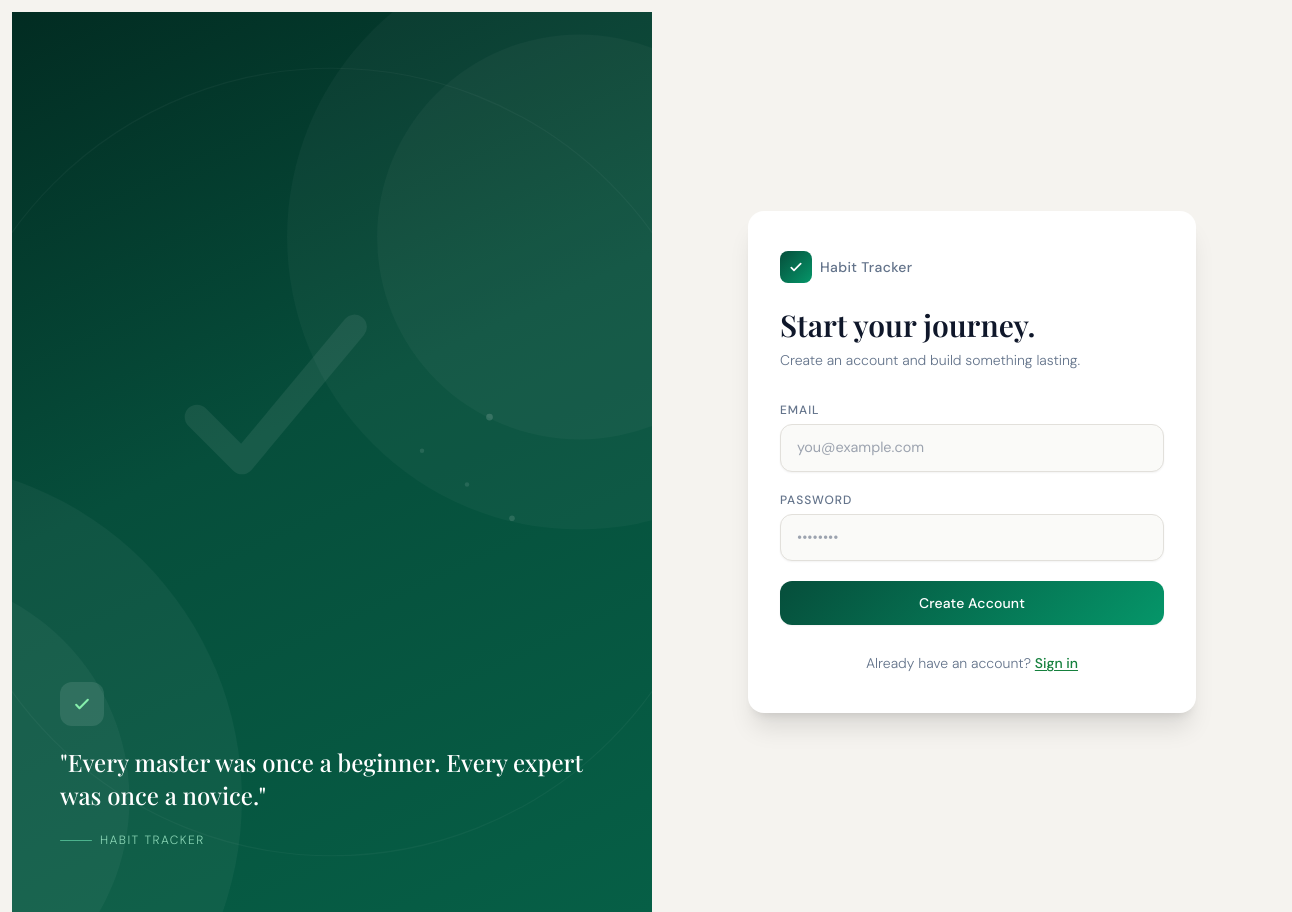
auth flow › shows an error for duplicate signup email
Type "exist@test.com" into the field with test id "auth-signup-email".
click(972, 448); type("exist@test.com")  # box [780,424,1164,472]
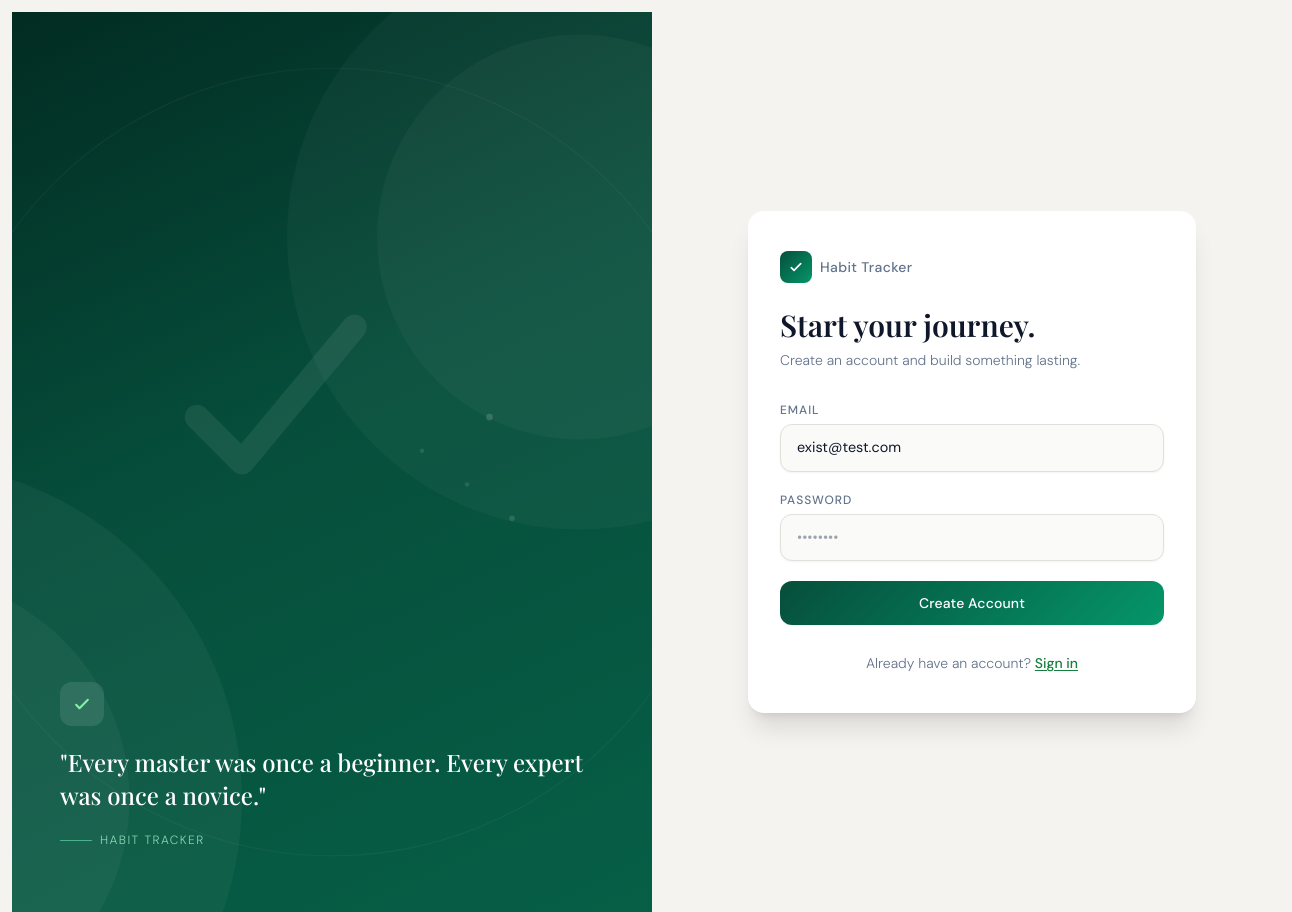
Type "password123" into the password field with test id "auth-signup-password".
click(972, 538); type("password123")  # box [780,514,1164,561]
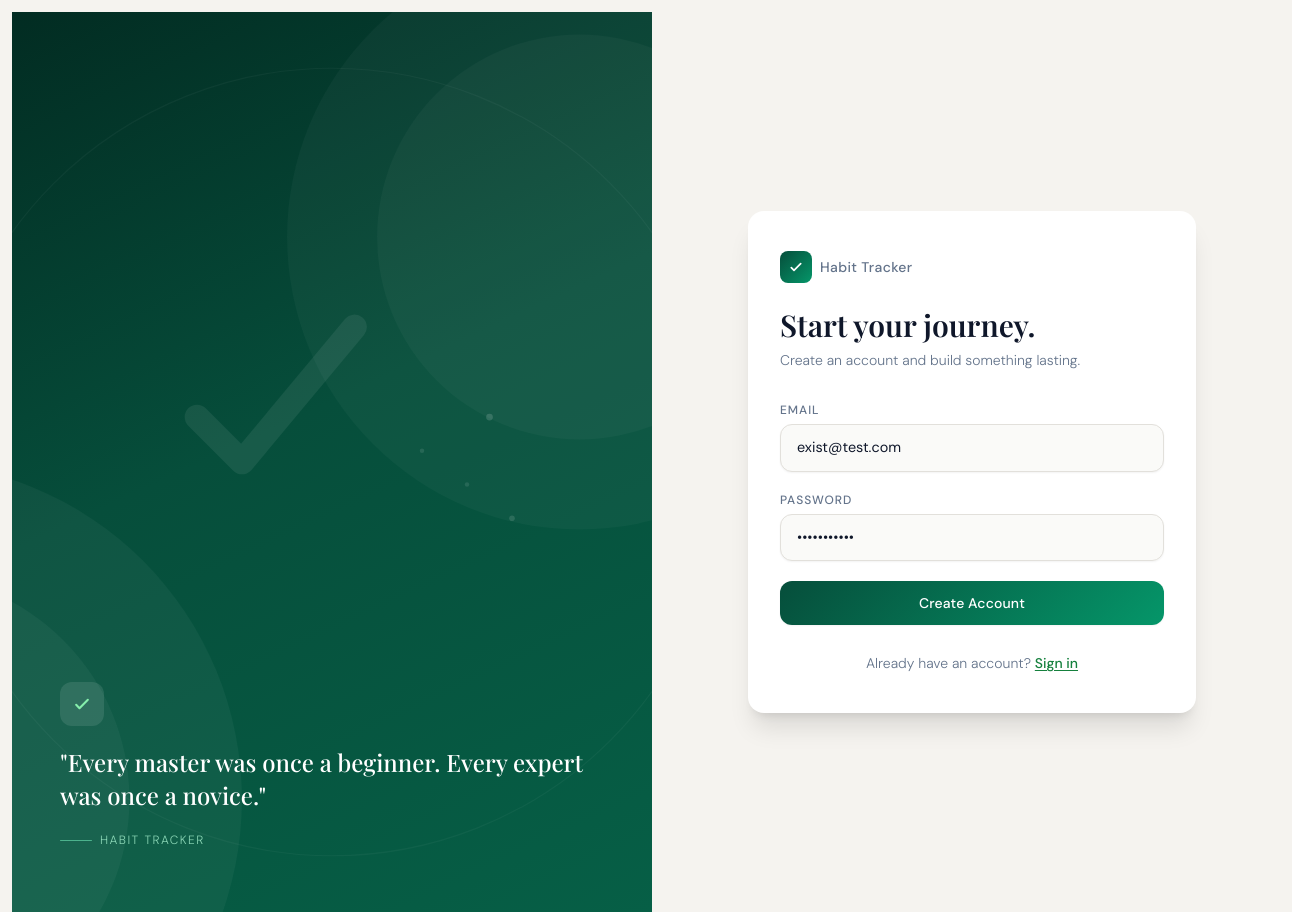
Click the button with test id "auth-signup-submit".
click(972, 603)  # box [780,581,1164,625]
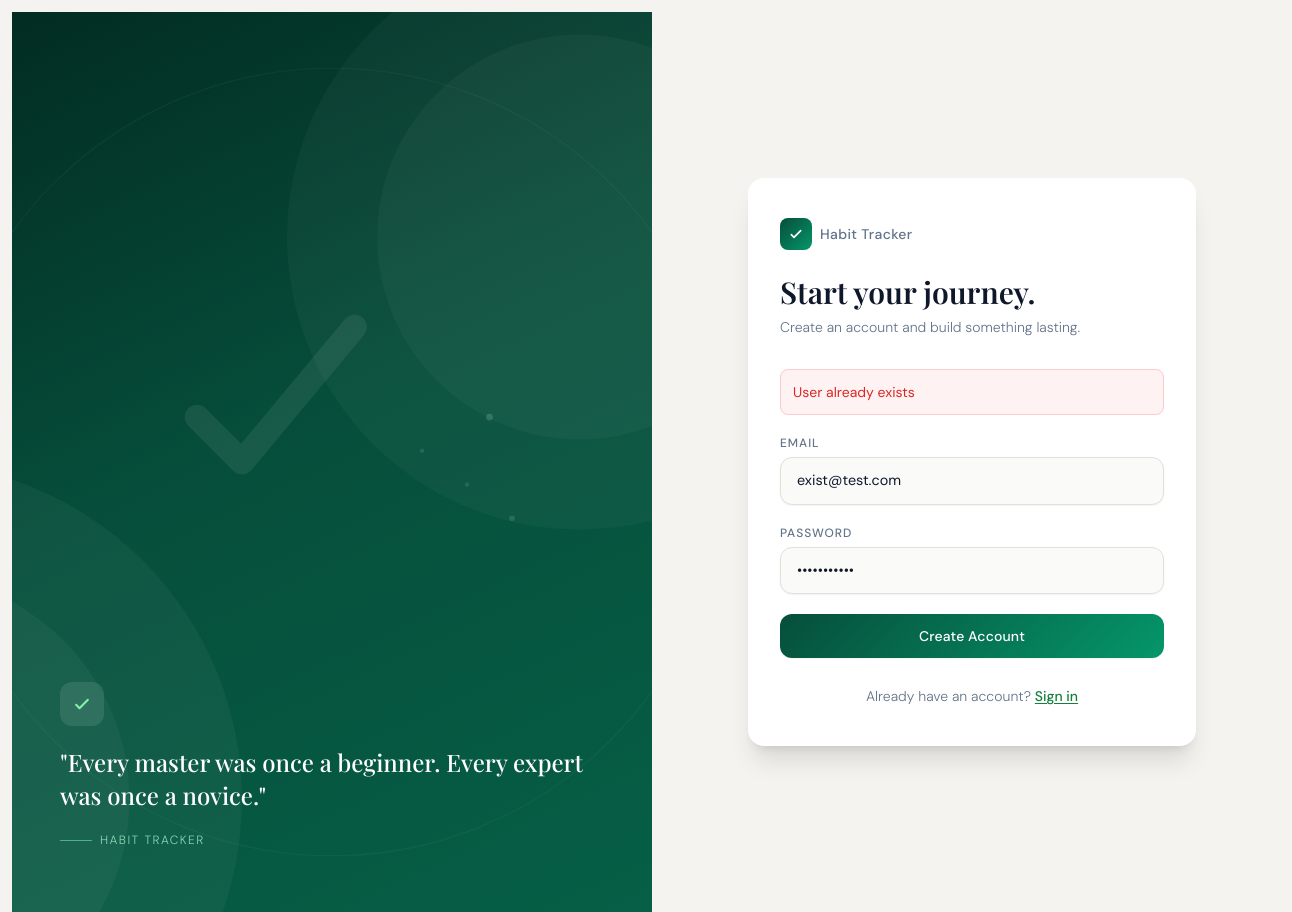
Check: the text "User already exists" is shown, box [780,369,1164,415]
